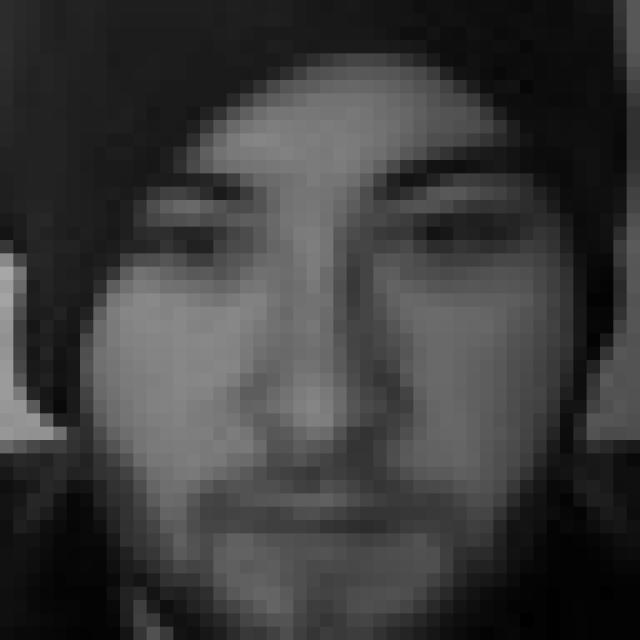neutral: (124, 138, 550, 577)
